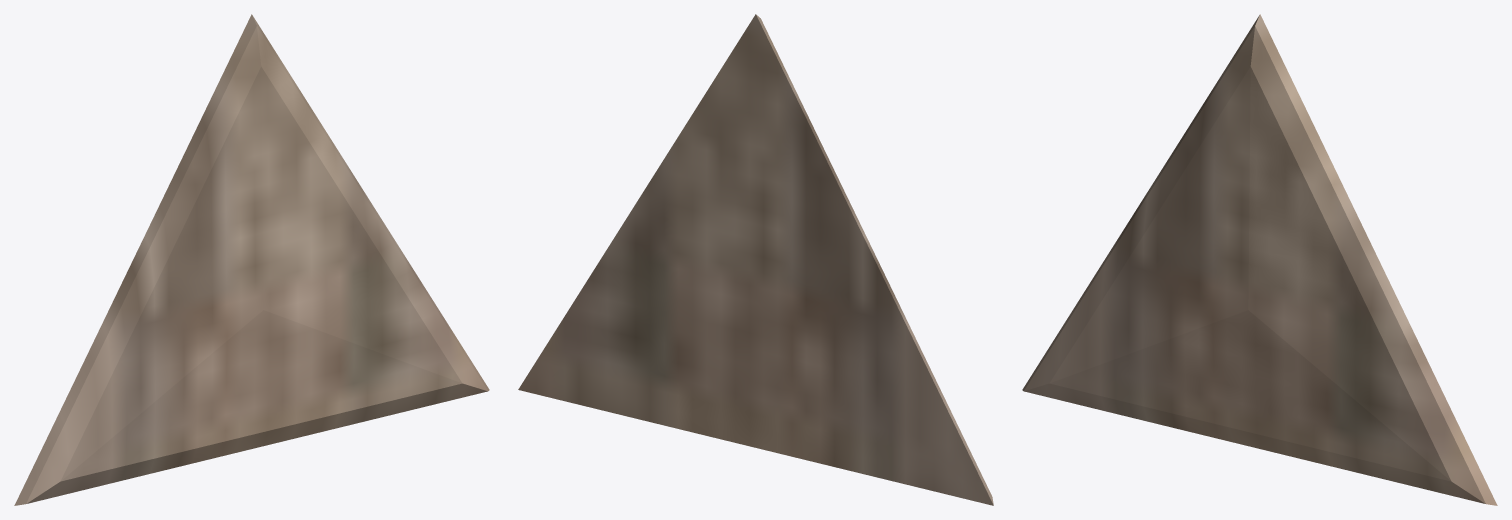
File: squarebipirimid_insert.fbx
3 views of the same model, side by side, from view 1: azimuth 30°, elevation 25°; view 2: azimuth 150°, elevation 25°; view 3: azimuth 330°, elevation 25° (orthographic).
Visible parts, largest first — view 1: squarebipirimid_insert; view 2: squarebipirimid_insert; view 3: squarebipirimid_insert.
Boxes of the visible parts, <box> form: squarebipirimid_insert: <box>14,14,489,505</box>; squarebipirimid_insert: <box>518,14,993,505</box>; squarebipirimid_insert: <box>1022,14,1497,505</box>.
Size of the model in its own units: 160 by 139 by 6.88.
